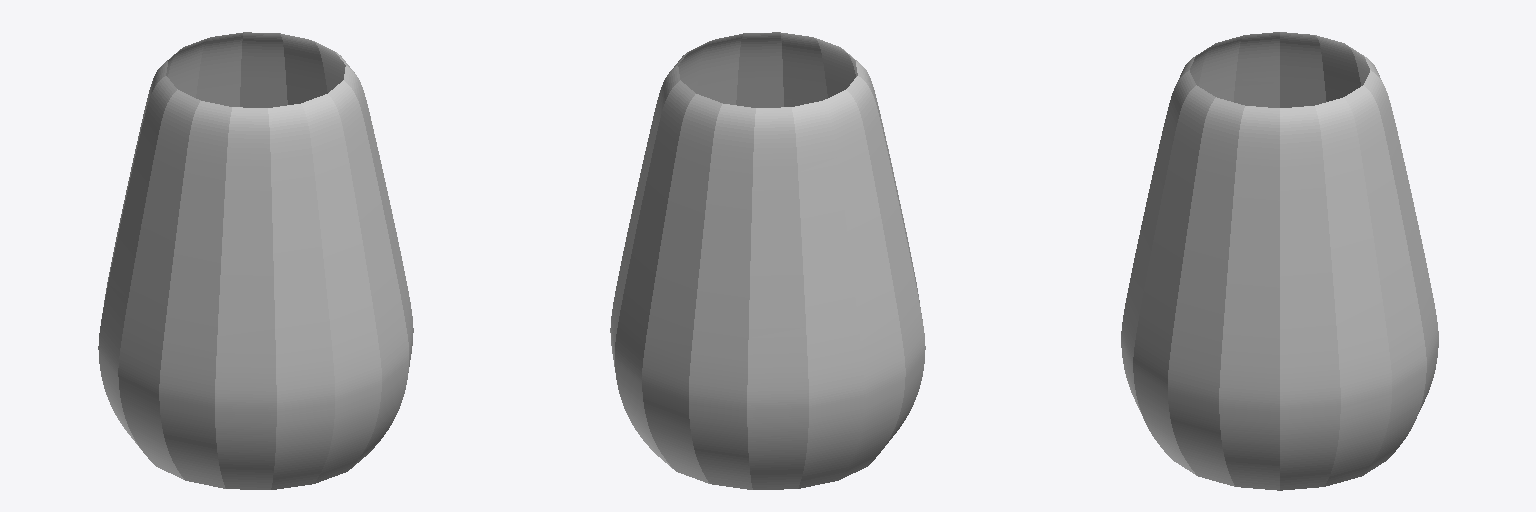
File: lamp1.obj
The picture shows the model from 3 angles: view 1: azimuth 30°, elevation 25°; view 2: azimuth 150°, elevation 25°; view 3: azimuth 270°, elevation 25°; orthographic projection.
Visible parts, largest first — view 1: Lampara.001_Lampara_NurbsPath.031; view 2: Lampara.001_Lampara_NurbsPath.031; view 3: Lampara.001_Lampara_NurbsPath.031.
Part boxes in pixels (x1,y1,x2,y2): Lampara.001_Lampara_NurbsPath.031: (98,32,413,489); Lampara.001_Lampara_NurbsPath.031: (610,32,925,489); Lampara.001_Lampara_NurbsPath.031: (1121,32,1438,490).
Bounding box in the file's own units: 0.2621 × 0.3381 × 0.2621.